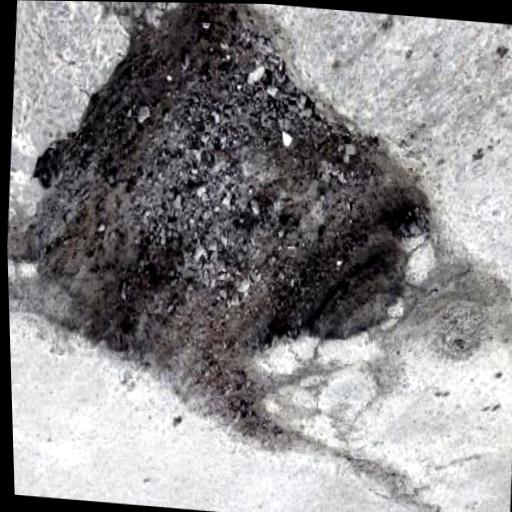pothole: (5, 0, 454, 461)
